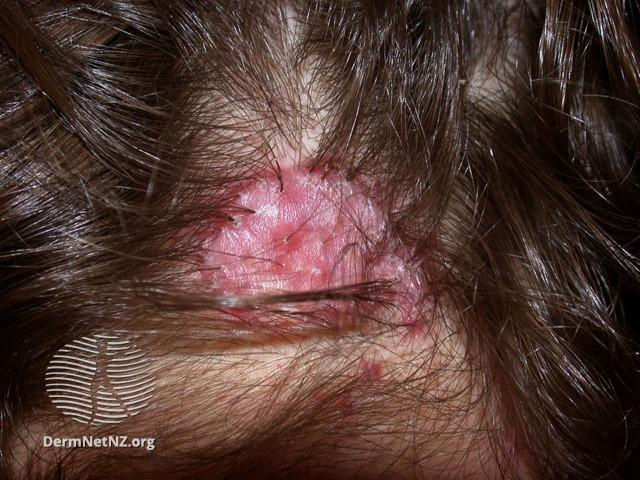Folliculitis: (169, 134, 517, 437)
